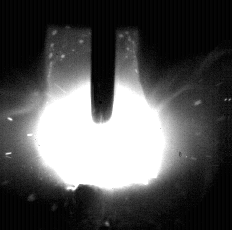arame: (92, 0, 114, 124)
poca: (33, 0, 166, 230)
